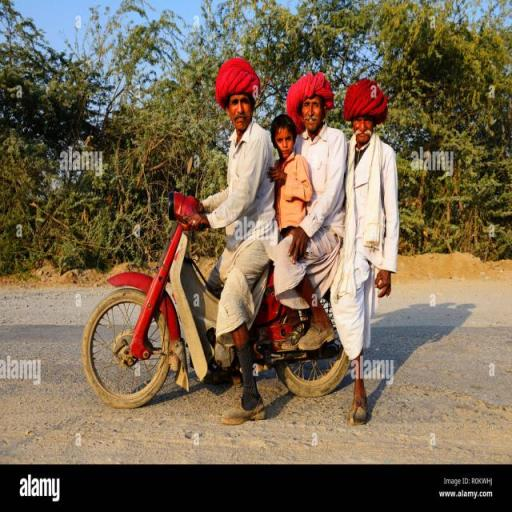tripple riding: (207, 55, 406, 418)
